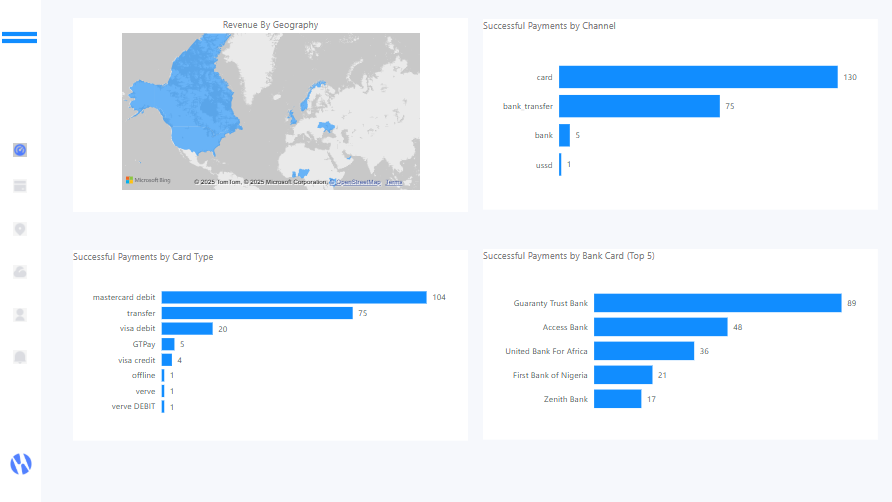

The dashboard page shown, as its layout file describes it:
{"tool":"powerbi","page":{"name":"Page 2","canvas":[1280,720],"ordinal":1},"visuals":[{"type":"group","id":"g1","title":"Group 2","box":[0,0,60,720],"z":0},{"type":"shape","box":[0,0,60,720.3],"z":0,"group":"g1"},{"type":"shape","box":[105.7,28.6,564.3,277.1],"z":0,"group":"g5"},{"type":"shape","box":[4.8,40.7,50,20],"z":0,"group":"g6"},{"type":"shape","box":[691.7,30,563.9,272.2],"z":1000,"group":"g3"},{"type":"filledMap","fields":{"Category":["currency Table.Country"]},"box":[171.4,45.9,435.4,234.1],"z":1000,"group":"g5"},{"type":"shape","box":[4.8,50.2,50,20],"z":1000,"group":"g6"},{"type":"actionButton","box":[20,207.8,20,20],"z":1000,"group":"g1"},{"type":"group","id":"g2","title":"Successful Payments by bank card","box":[691.4,358.6,564.3,272.9],"z":1000},{"type":"shape","box":[691.4,358.6,563.9,272.2],"z":1000,"group":"g2"},{"type":"shape","box":[105.7,360,564,272],"z":1000,"group":"g4"},{"type":"group","id":"g3","title":"Successful Payments by bank card","box":[691.7,30,565,271.7],"z":2000},{"type":"actionButton","box":[20.4,258.5,19.8,19.8],"z":2000,"group":"g1"},{"type":"barChart","fields":{"Y":["calculations.SuccessfulPayments"],"Category":["sera sales.channel"]},"box":[707,67.5,523.6,209.7],"z":2001,"group":"g3"},{"type":"barChart","fields":{"Y":["calculations.SuccessfulPayments"],"Category":["sera sales.card_bank"]},"box":[706.7,396.1,523.6,209.7],"z":2001,"group":"g2"},{"type":"barChart","fields":{"Y":["calculations.SuccessfulPayments"],"Category":["sera sales.card_type"]},"box":[121,397.5,523.7,209.5],"z":2001,"group":"g4"},{"type":"actionButton","box":[20.4,320.4,19.8,19.8],"z":3000,"group":"g1"},{"type":"group","id":"g4","title":"Successful Payments by bank card","box":[105.7,360,564.3,271.4],"z":3000},{"type":"group","id":"g5","title":"Map where people are paying from","box":[105.7,28.6,564.3,277.1],"z":3001},{"type":"actionButton","box":[20.4,381,19.8,19.8],"z":4000,"group":"g1"},{"type":"actionButton","box":[20.4,442.8,19.8,19.8],"z":5000,"group":"g1"},{"type":"actionButton","box":[20.4,503.4,19.8,19.8],"z":6000,"group":"g1"},{"type":"group","id":"g6","title":"Group 1","box":[4.8,40.7,50.3,28.8],"z":7000,"group":"g1"},{"type":"image","box":[10.8,646,39.6,40.7],"z":8000,"group":"g1"}]}

Visuals, with their boxes on the page's 1280x720 design canvas (x1, y1, x2, y2). These are canvas units, not pixel positions in the 892x502 screenshot, which may show the page scaled, cropped or inside an application window:
"Group 2" group: (0,0,60,720)
shape: (0,0,60,720)
shape: (106,29,670,306)
shape: (5,41,55,61)
shape: (692,30,1256,302)
filledMap - currency Table.Country: (171,46,607,280)
shape: (5,50,55,70)
actionButton: (20,208,40,228)
"Successful Payments by bank card" group: (691,359,1256,632)
shape: (691,359,1255,631)
shape: (106,360,670,632)
"Successful Payments by bank card" group: (692,30,1257,302)
actionButton: (20,258,40,278)
barChart - calculations.SuccessfulPayments x sera sales.channel: (707,68,1231,277)
barChart - calculations.SuccessfulPayments x sera sales.card_bank: (707,396,1230,606)
barChart - calculations.SuccessfulPayments x sera sales.card_type: (121,398,645,607)
actionButton: (20,320,40,340)
"Successful Payments by bank card" group: (106,360,670,631)
"Map where people are paying from" group: (106,29,670,306)
actionButton: (20,381,40,401)
actionButton: (20,443,40,463)
actionButton: (20,503,40,523)
"Group 1" group: (5,41,55,70)
image: (11,646,50,687)
